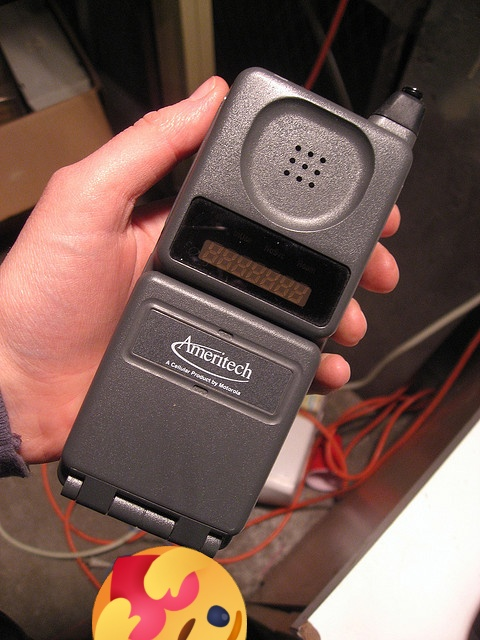care: (92, 546, 247, 640)
